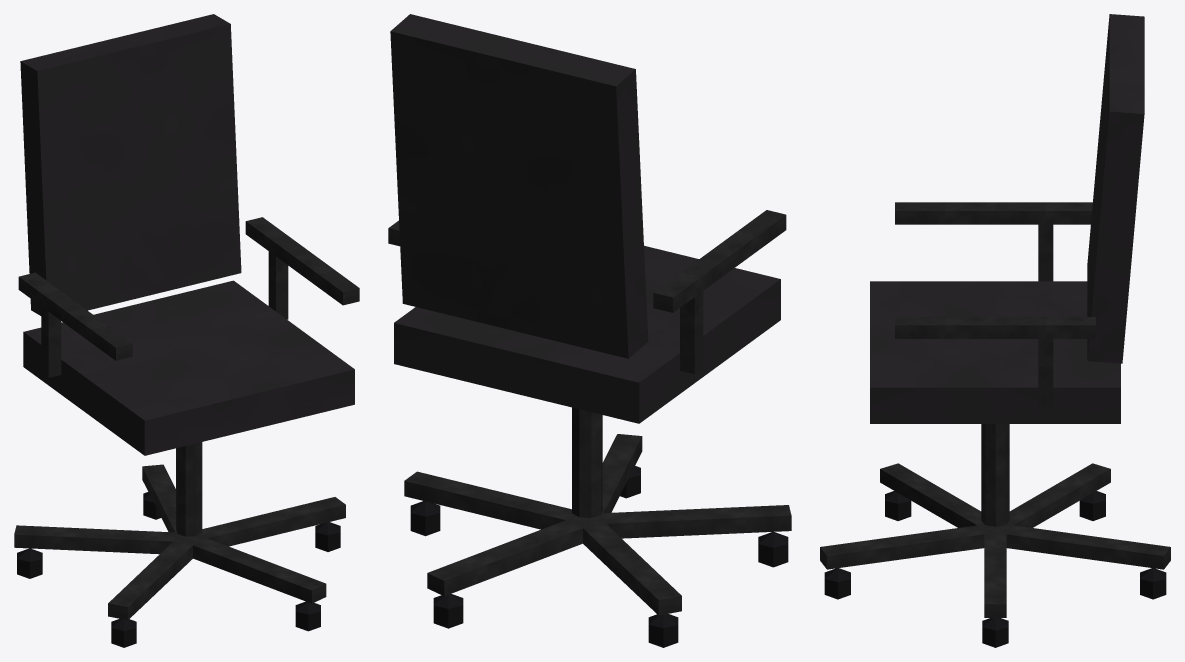
File: OfficeChair.obj
3 renders of one model, left to right at view 1: azimuth 30°, elevation 25°; view 2: azimuth 150°, elevation 25°; view 3: azimuth 270°, elevation 25°, orthographic. The views are drawn at different scales.
Parts seen in each view (by area): view 1: back, seat, base, arms, post; view 2: back, seat, base, arms, post; view 3: seat, base, back, arms, post.
Part boxes in pixels (<box>): back: <box>20,14,241,315</box>; seat: <box>23,280,354,455</box>; base: <box>14,464,345,647</box>; arms: <box>18,217,359,377</box>; post: <box>176,442,202,536</box>; back: <box>390,14,648,358</box>; seat: <box>394,245,780,423</box>; base: <box>404,434,791,647</box>; arms: <box>388,210,786,374</box>; post: <box>572,407,602,517</box>; seat: <box>870,281,1120,423</box>; base: <box>820,463,1170,647</box>; back: <box>1087,14,1144,363</box>; arms: <box>895,202,1095,408</box>; post: <box>981,424,1009,526</box>.
Bounding box in the file's own units: 0.6648 × 1.13 × 0.6987.
Materials: 3 (2 with a texture image).
